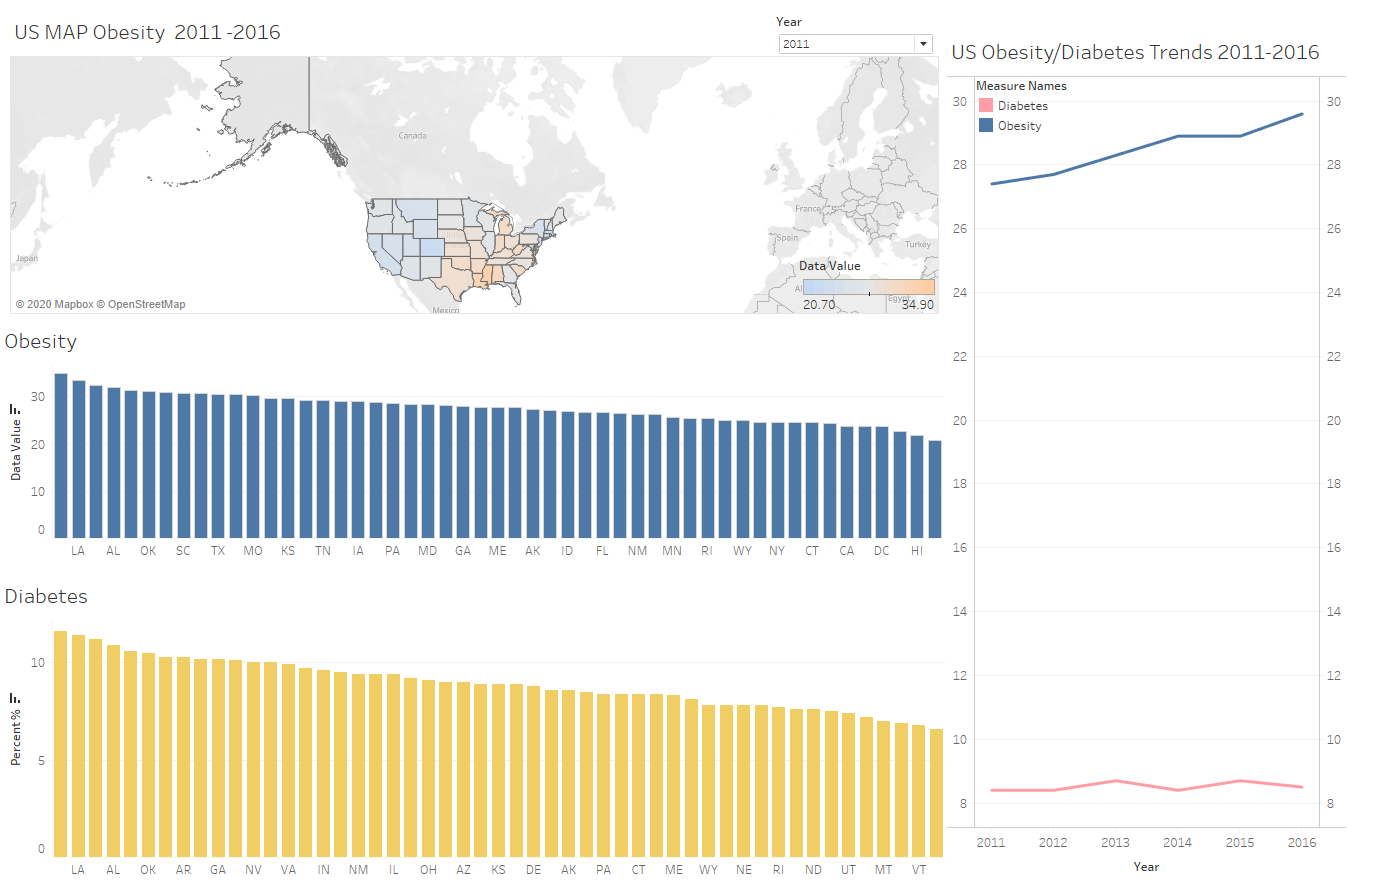

What the dashboard file says about the page in this screenshot:
{"tool":"tableau","page":{"name":"Dashboard 1","canvas":[1000,1000],"units":"permille","ordinal":0},"visuals":[{"type":"worksheet","box":[0,0,1000,1000]},{"type":"worksheet","param":"horz","box":[4.7,8.8,990.6,982.3]},{"type":"worksheet","box":[4.7,8.8,990.6,982.3]},{"type":"worksheet","param":"horz","box":[4.7,8.8,744.8,982.3]},{"type":"worksheet","box":[4.7,8.8,744.8,982.3]},{"type":"worksheet","title":"Diabetes Map","mark":"Multipolygon","box":[4.7,8.8,357.9,408]},{"type":"worksheet","title":"Obesity Map","mark":"Automatic","box":[362.6,8.8,386.8,408]},{"type":"worksheet","title":"Diabetes Map","mark":"Multipolygon","param":"[federated.0xuy8690ansnom19kuie30amb3ie].[yr:Date:ok]","box":[749.5,8.8,245.8,144.2]},{"type":"worksheet","box":[752.5,75.2,183.2,46.5]},{"type":"worksheet","box":[752.5,130.5,150.4,46.5]},{"type":"worksheet","box":[749.5,153.1,245.8,144.3]},{"type":"worksheet","param":"Image/Heart-EKG.svg","box":[749.5,297.4,245.8,202.6]},{"type":"worksheet","title":"Diabetes Map","mark":"Multipolygon","param":"[federated.0xuy8690ansnom19kuie30amb3ie].[sum:Percentage:qk]","box":[4.7,416.8,357.9,83.2]},{"type":"worksheet","title":"Obesity Map","mark":"Automatic","param":"[federated.0xuy8690ansnom19kuie30amb3ie].[sum:Data_Value:qk]","box":[362.6,416.8,386.8,83.2]},{"type":"worksheet","title":"Diabetes Bar","mark":"Automatic","rows":["Percentage"],"cols":["State"],"box":[4.7,500,357.9,491.2]},{"type":"worksheet","title":"Obesity Bar","mark":"Automatic","rows":["Data_Value"],"cols":["LocationDesc"],"box":[362.6,500,386.8,491.2]},{"type":"worksheet","title":"National ","mark":"Automatic","rows":["LocationDesc","Data_Value","Total - Percentage"],"cols":["YearStart"],"param":"[federated.0xuy8690ansnom19kuie30amb3ie].[:Measure Names]","box":[749.5,500,245.8,82.8]},{"type":"worksheet","title":"National ","mark":"Automatic","rows":["LocationDesc","Data_Value","Total - Percentage"],"cols":["YearStart"],"box":[749.5,582.8,245.8,408.3]}]}

Visuals, with their boxes on the dashboard's canvas, which has no fixed pixel size, in thousandths of its width and height (x1, y1, x2, y2). These are canvas units, not pixel positions in the 1387x893 screenshot, which may show the page scaled, cropped or inside an application window:
worksheet: l=0, t=0, r=1000, b=1000
worksheet: l=5, t=9, r=995, b=991
worksheet: l=5, t=9, r=995, b=991
worksheet: l=5, t=9, r=750, b=991
worksheet: l=5, t=9, r=750, b=991
"Diabetes Map" worksheet (Multipolygon marks): l=5, t=9, r=363, b=417
"Obesity Map" worksheet: l=363, t=9, r=749, b=417
"Diabetes Map" worksheet (Multipolygon marks): l=750, t=9, r=995, b=153
worksheet: l=752, t=75, r=936, b=122
worksheet: l=752, t=130, r=903, b=177
worksheet: l=750, t=153, r=995, b=297
worksheet: l=750, t=297, r=995, b=500
"Diabetes Map" worksheet (Multipolygon marks): l=5, t=417, r=363, b=500
"Obesity Map" worksheet: l=363, t=417, r=749, b=500
"Diabetes Bar" worksheet: l=5, t=500, r=363, b=991
"Obesity Bar" worksheet: l=363, t=500, r=749, b=991
"National " worksheet: l=750, t=500, r=995, b=583
"National " worksheet: l=750, t=583, r=995, b=991
